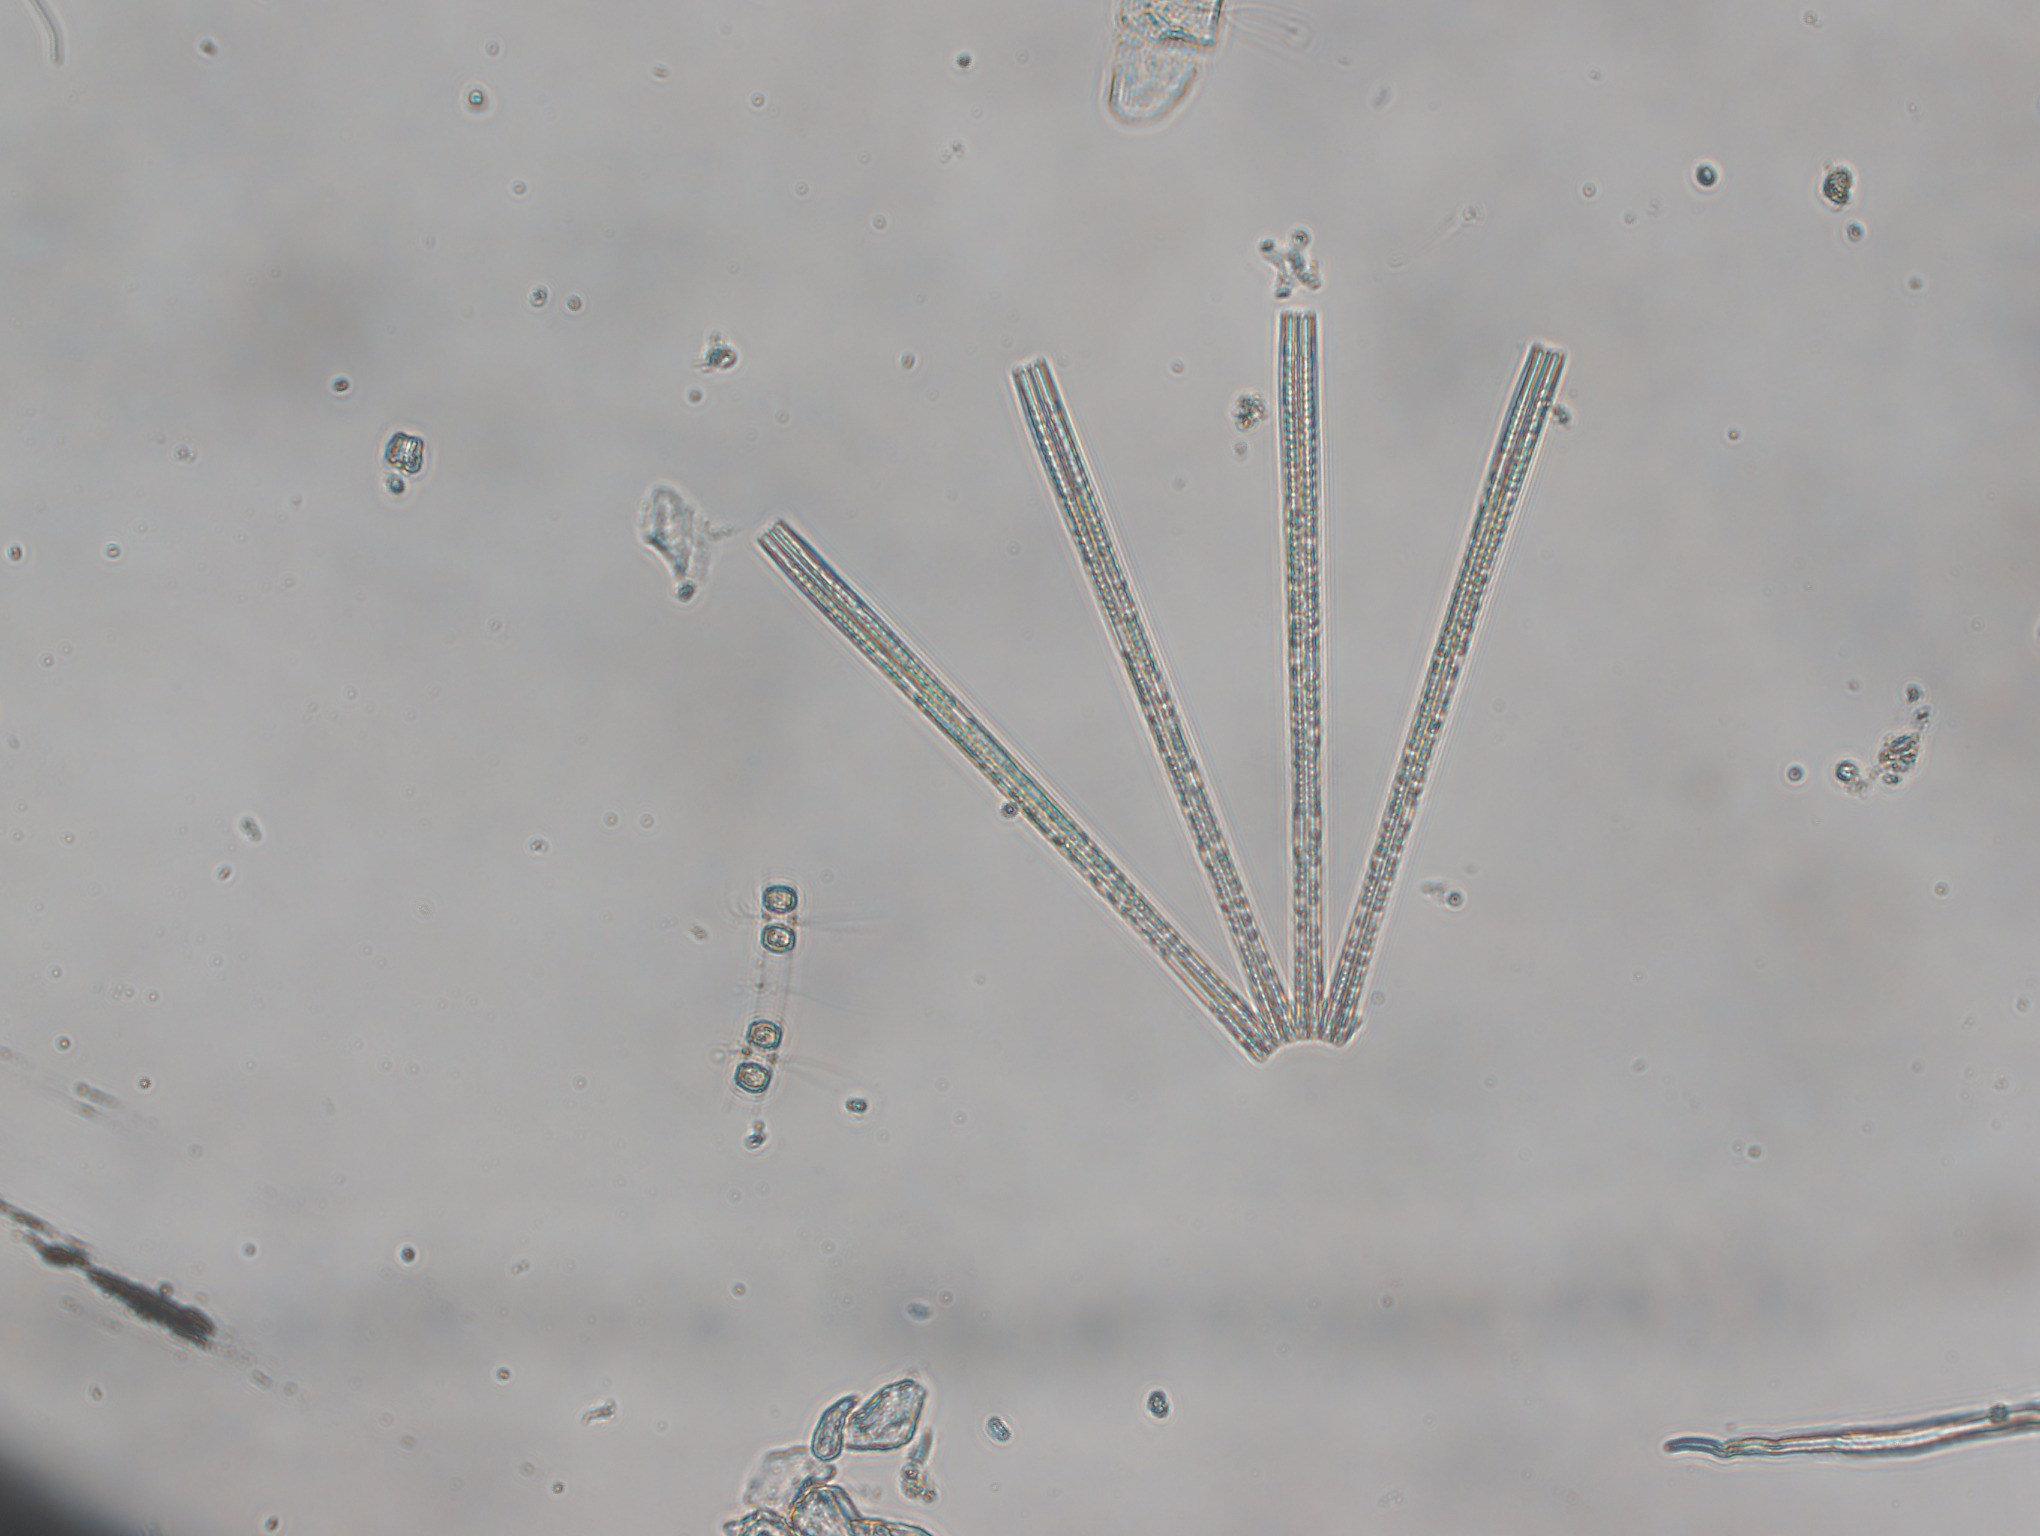chaetoceros: (713, 878, 869, 1108)
thalassionema frauenfeldii: (748, 307, 1567, 1071)
